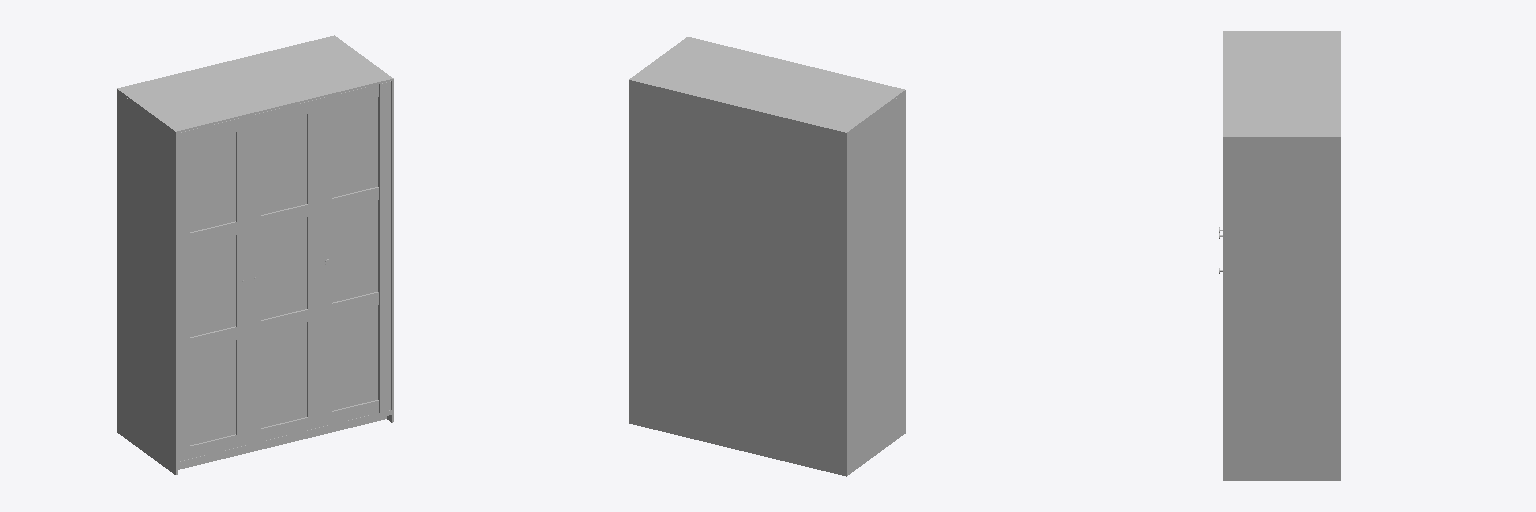
The model's file is RAKKESTAD.obj.
3 renders of one model, left to right at view 1: azimuth 30°, elevation 25°; view 2: azimuth 150°, elevation 25°; view 3: azimuth 270°, elevation 25°, orthographic.
Parts seen in each view (by area): view 1: Cube.007_Cube.008; view 2: Cube.007_Cube.008; view 3: Cube.007_Cube.008.
Boxes of the visible parts, x1,y1,x2,y2 form: Cube.007_Cube.008: [117, 35, 393, 474]; Cube.007_Cube.008: [629, 37, 905, 476]; Cube.007_Cube.008: [1223, 31, 1340, 480].
Bounding box in the file's own units: 2.35 × 3.54 × 1.13.